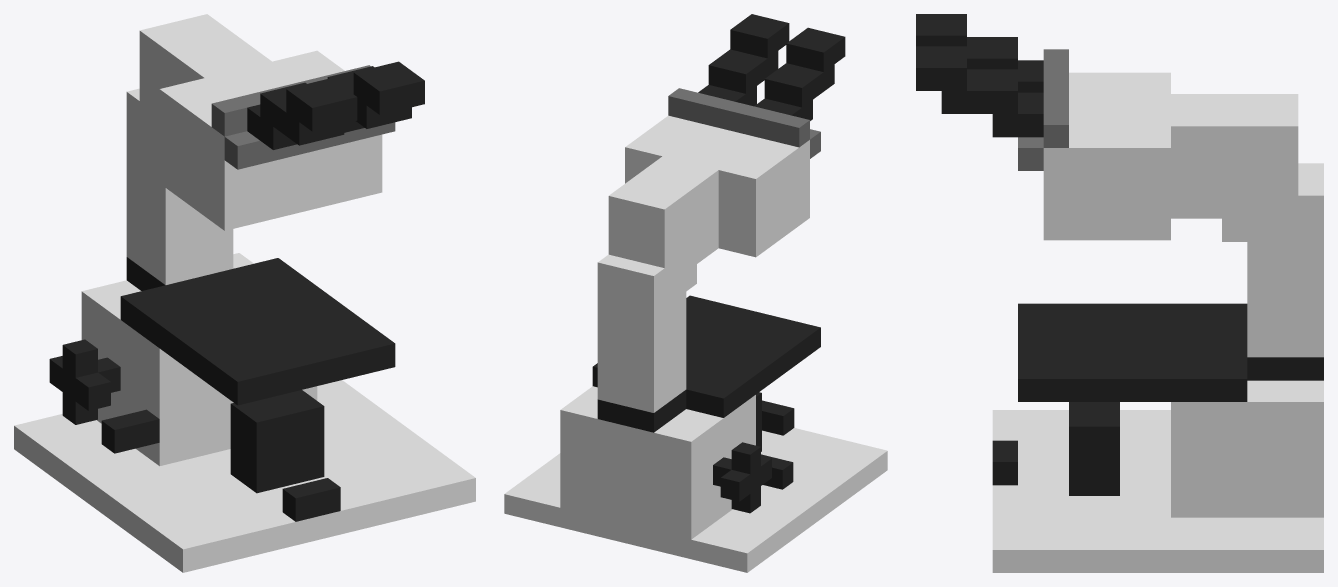
The model's file is SchoolPack-39-microscope.obj.
The picture shows the model from 3 angles, left to right: view 1: azimuth 30°, elevation 25°; view 2: azimuth 150°, elevation 25°; view 3: azimuth 270°, elevation 25°; orthographic projection. The views are drawn at different scales.
Parts seen in each view (by area): view 1: microscope; view 2: microscope; view 3: microscope.
Part boxes in pixels (bbox=[...]): microscope: bbox=[14, 14, 475, 572]; microscope: bbox=[504, 14, 887, 572]; microscope: bbox=[916, 14, 1323, 572].
Size of the model in its own units: 1.3 by 2 by 1.6.
1 material, 1 textured.
